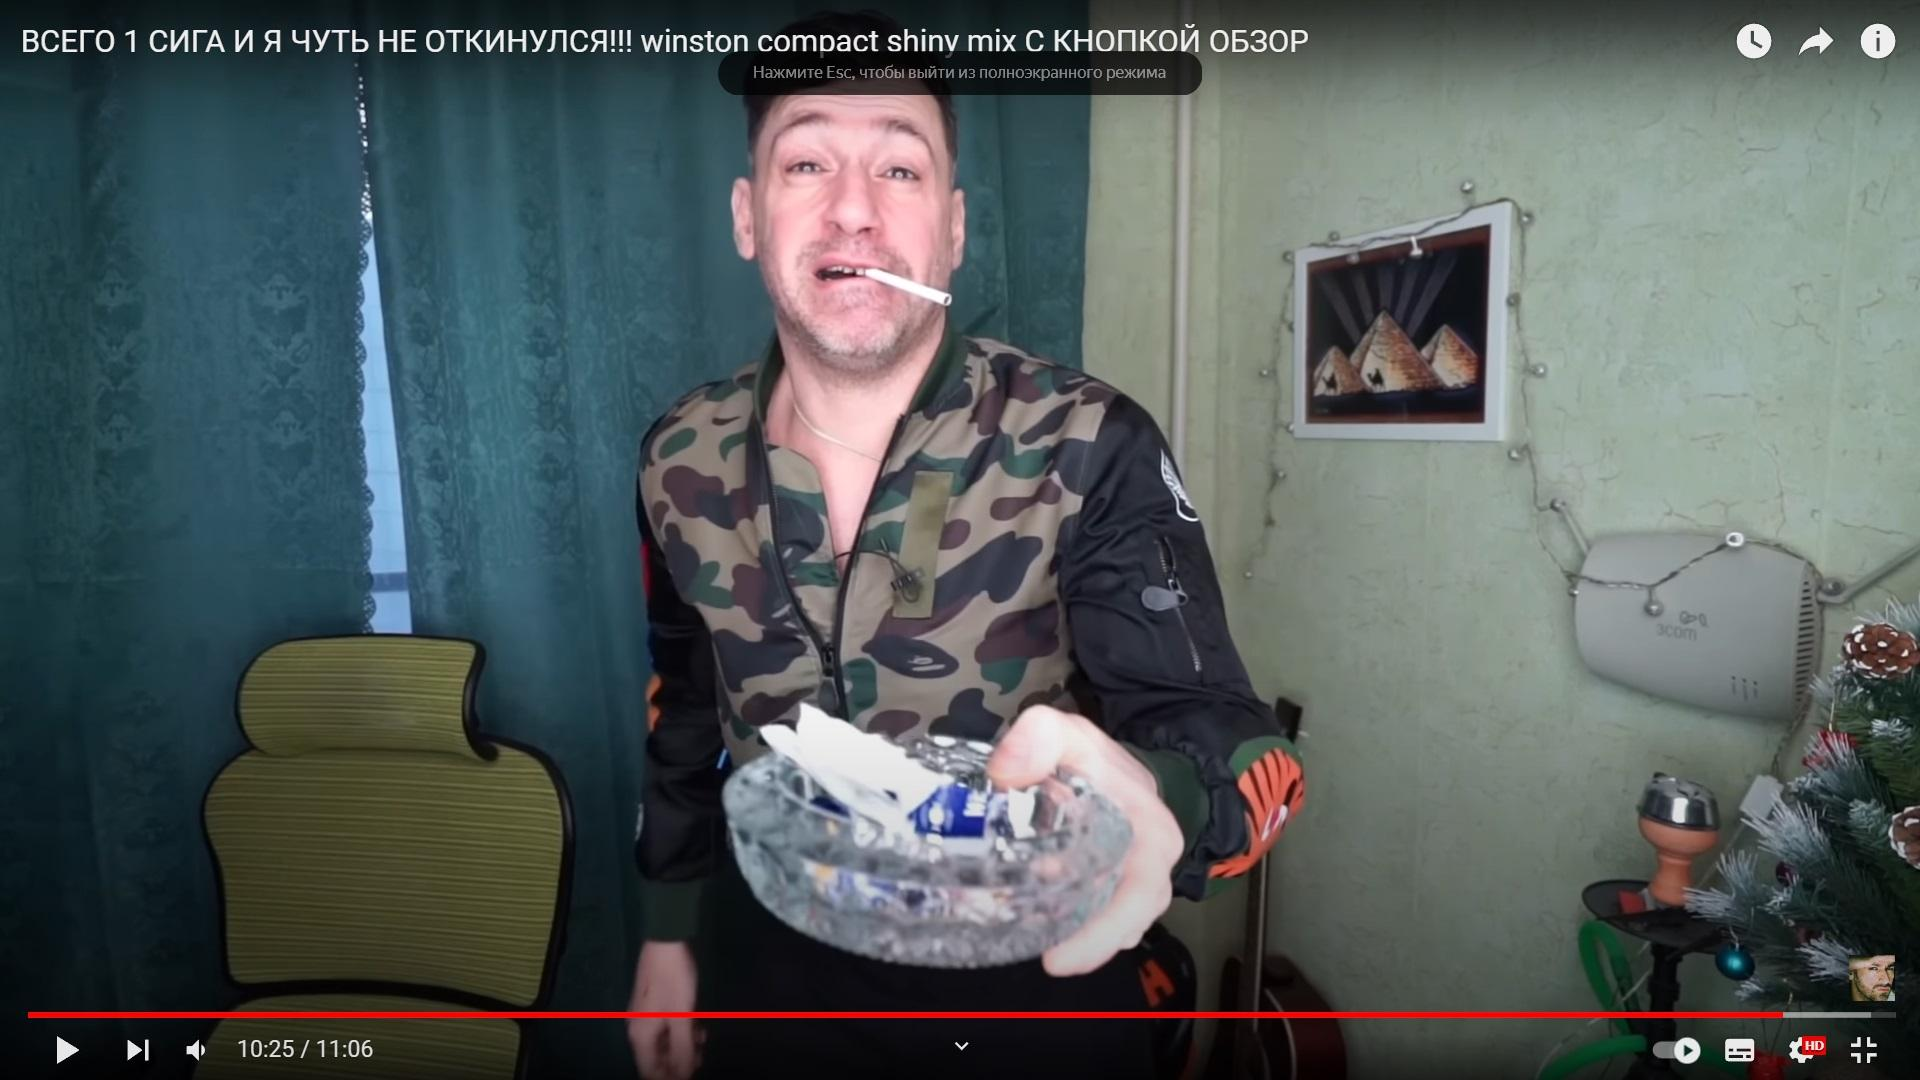cigarette: (864, 266, 952, 306)
